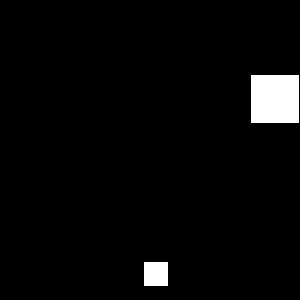circle: (251, 75, 299, 123), (144, 262, 168, 286)
